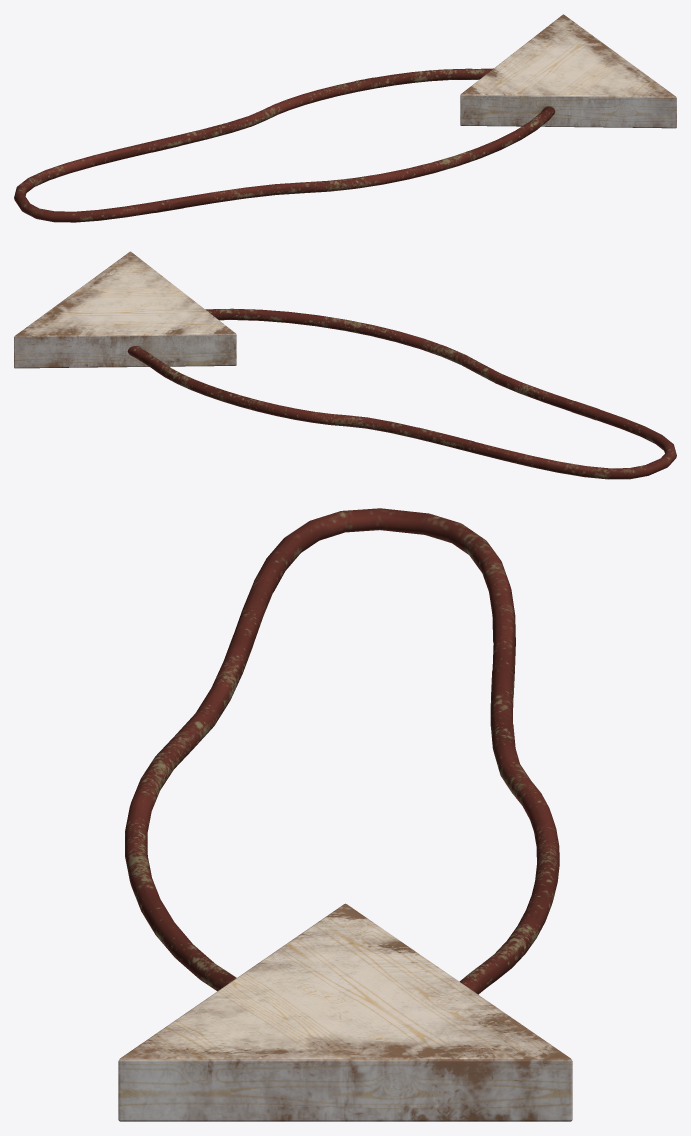
Rendered from talisman_triangle.fbx.
3 views of the same model, one above another, from view 1: azimuth 30°, elevation 25°; view 2: azimuth 150°, elevation 25°; view 3: azimuth 270°, elevation 25° (orthographic). The views are drawn at different scales.
Visible parts, largest first — view 1: talisman triangle; view 2: talisman triangle; view 3: talisman triangle.
Part boxes in pixels (x1=…): talisman triangle: x1=14, y1=14, x2=676, y2=222; talisman triangle: x1=14, y1=251, x2=676, y2=479; talisman triangle: x1=118, y1=508, x2=572, y2=1121.
Size of the model in its own units: 63.79 by 3.31 by 21.24.
